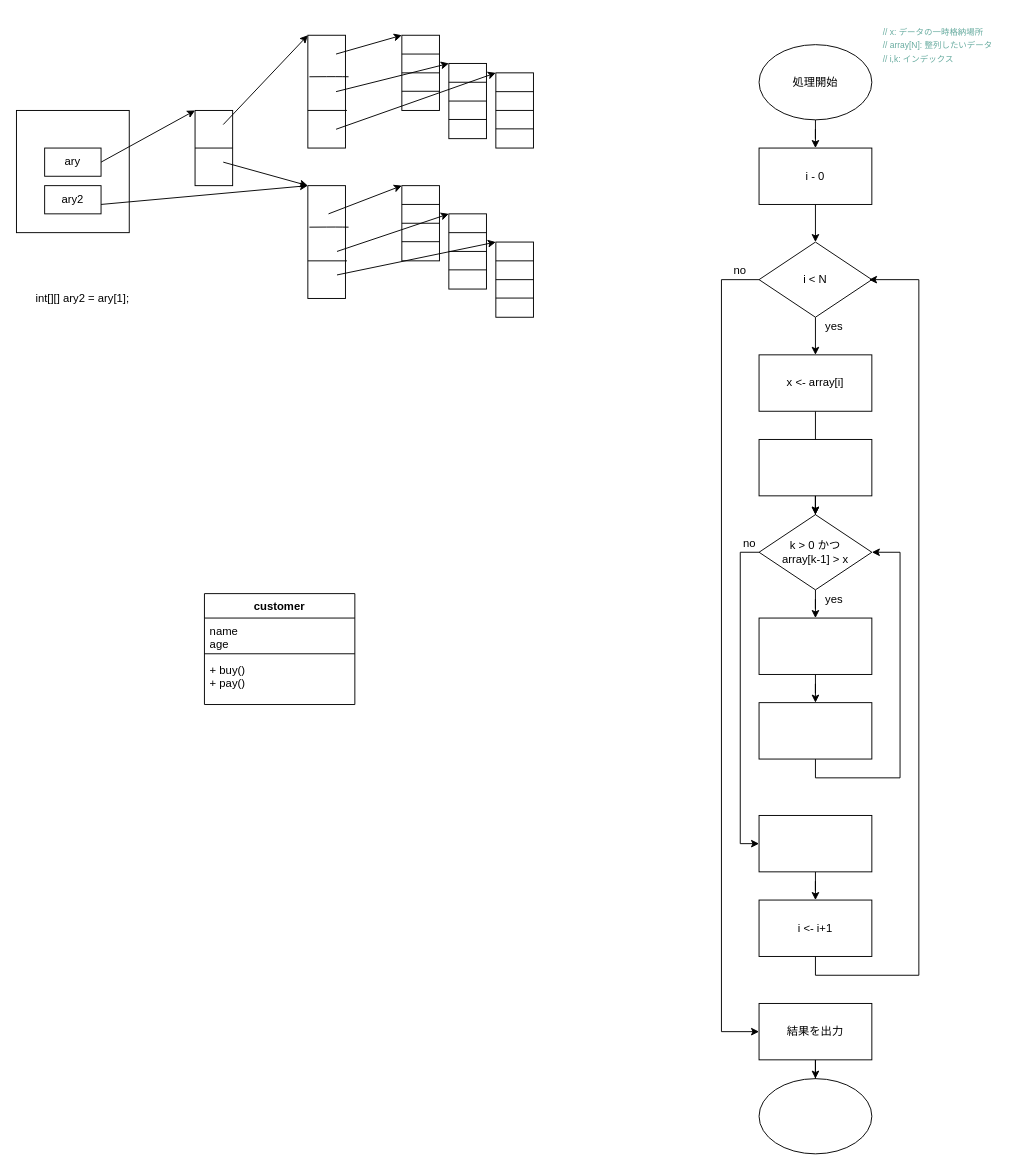
Some shapes in this 1029 by 1170 pixel diagram are drawn without their labels. Here are the shapes that lost their labels. From the top down, the centre of each, then its label:
[815,467]: k <- i
[815,645]: array[k] <- array[k-1]
[815,730]: k <- k-1
[815,843]: array[k] <- x
[815,1116]: 処理終了
